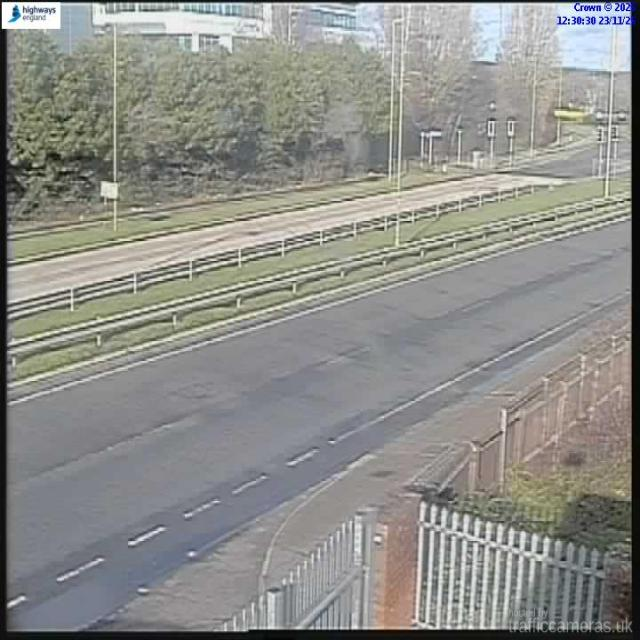foliage: (118, 29, 388, 212), (0, 28, 111, 222), (404, 4, 478, 127), (497, 4, 560, 147)
